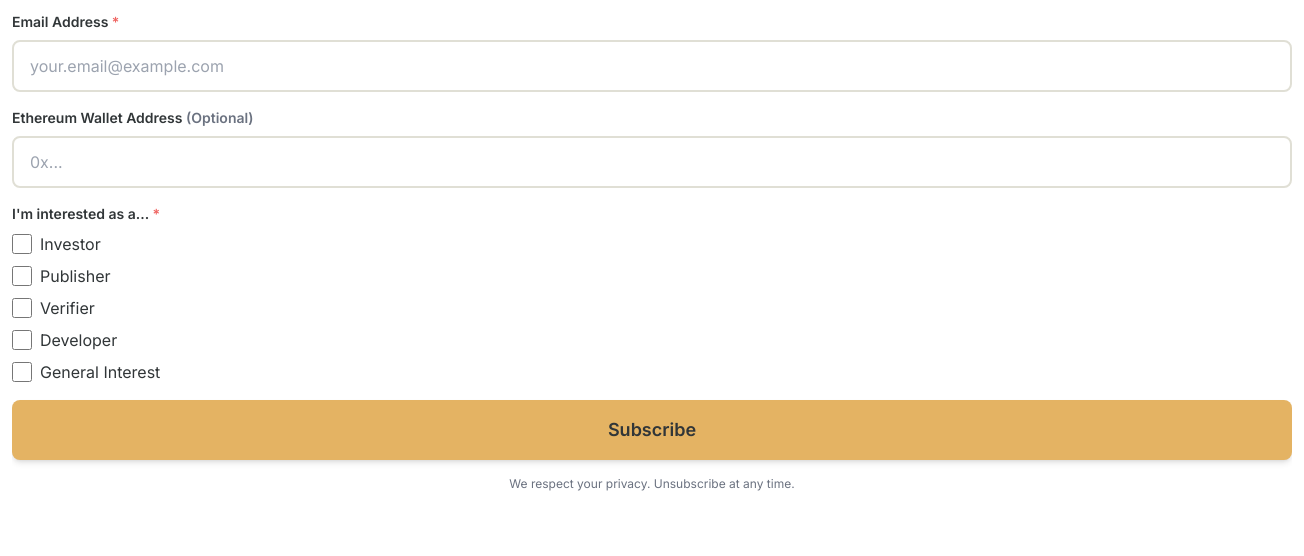
Test: EmailCaptureForm Component Tests › should validate wallet address format
Note: Enter valid email but invalid wallet address
In the field labelled "Email Address *": (652,66) [12,40,1292,92], type "test@example.com"
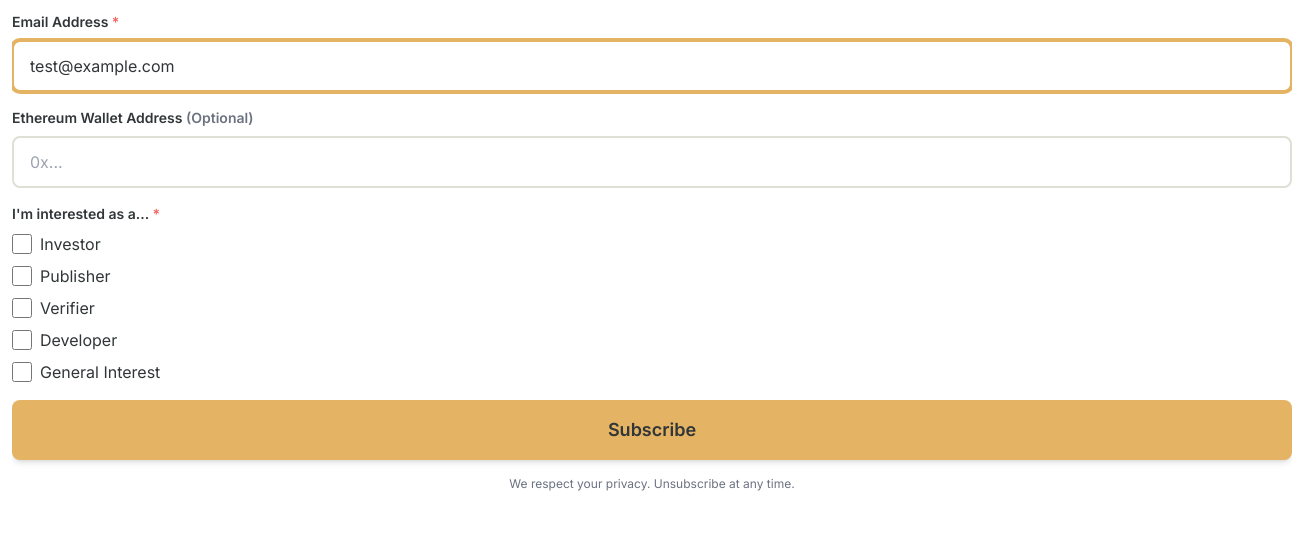
In the field labelled "Ethereum Wallet Address (Optional)": (652,162) [12,136,1292,188], type "invalid-wallet"
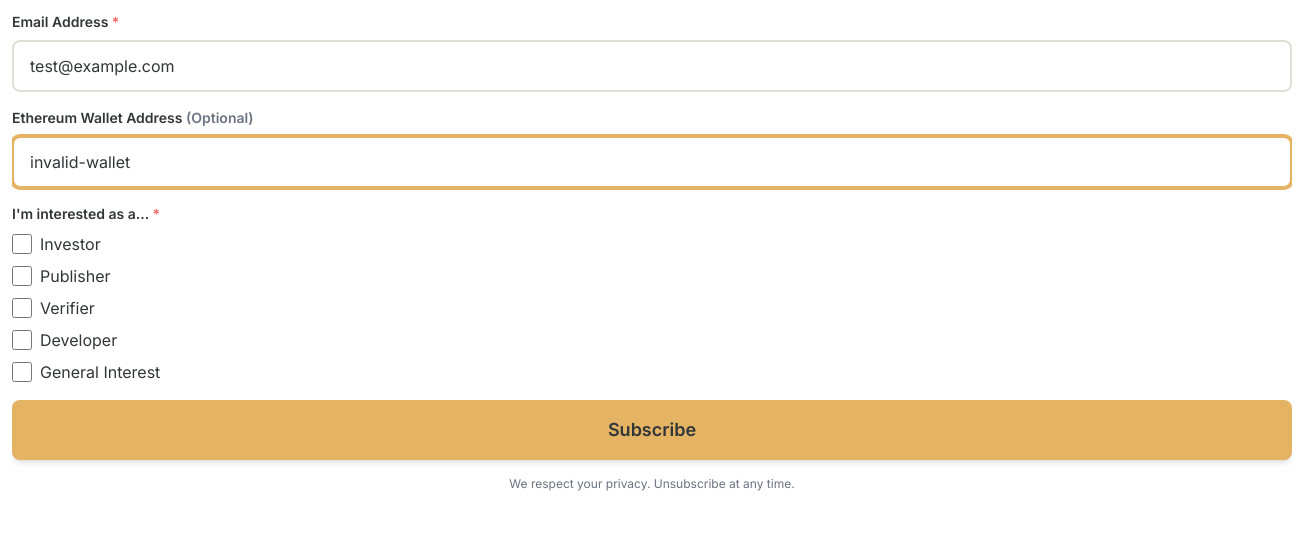
Press Tab
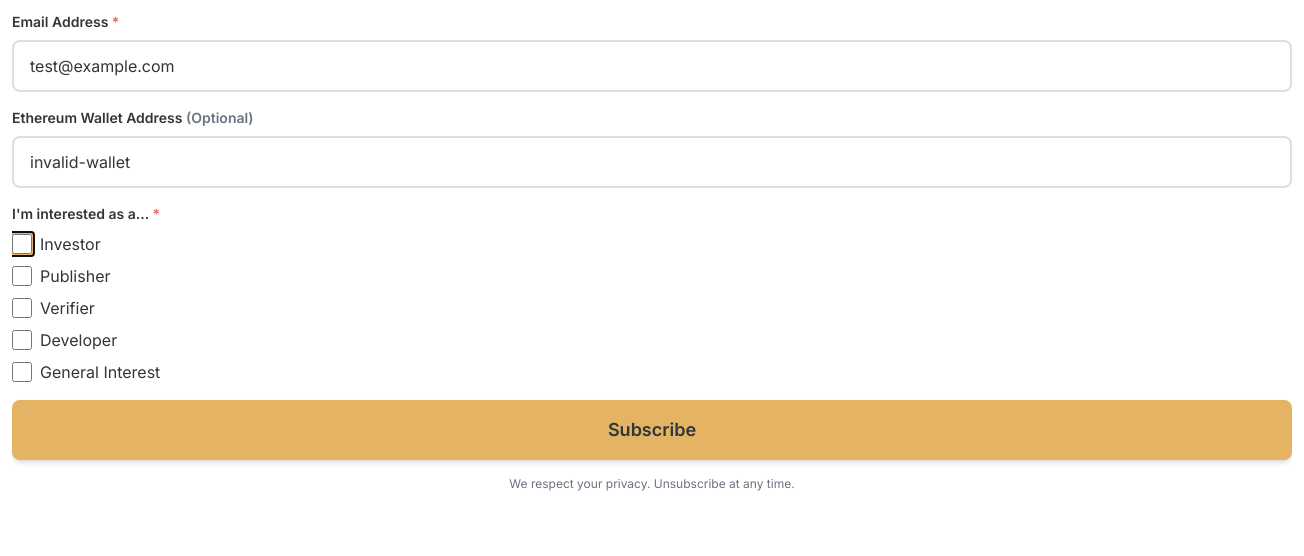
Click the button "Subscribe": (652,430) [12,400,1292,460]
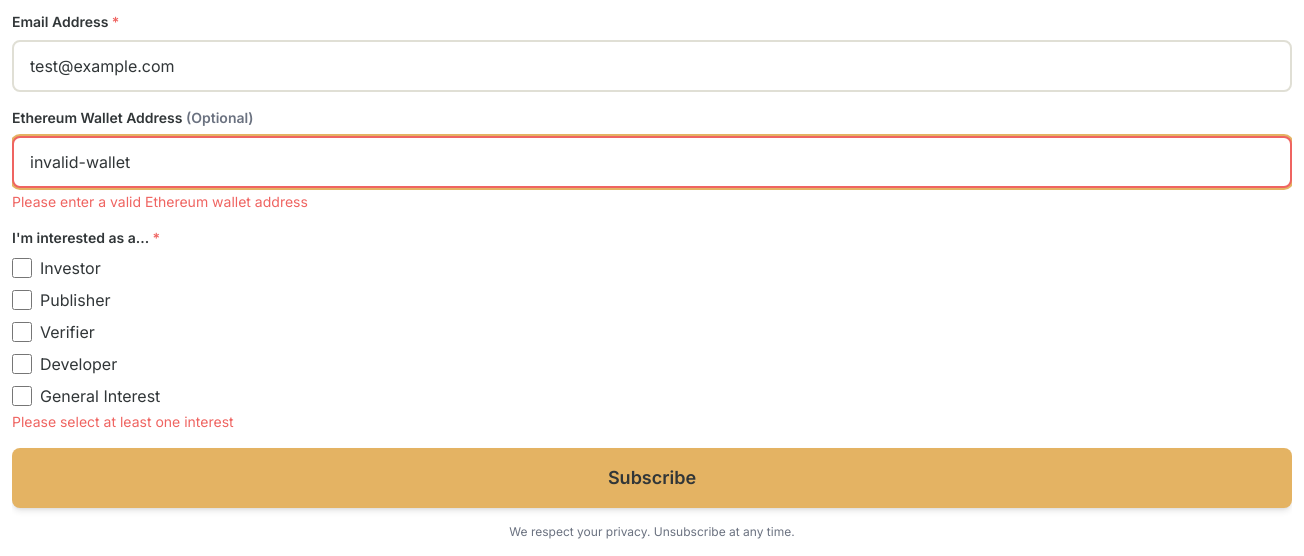
Now the text "Please enter a valid Ethereum wallet address" is shown, box [12,193,308,210]
